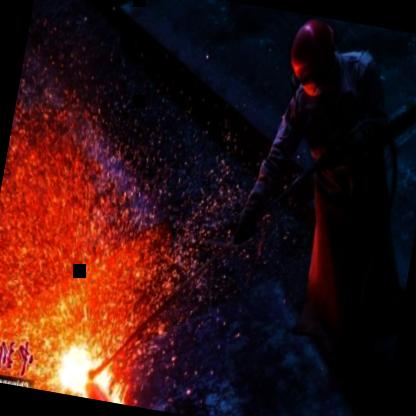helmet: (282, 14, 343, 95)
